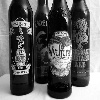beer: (5, 1, 35, 100)
